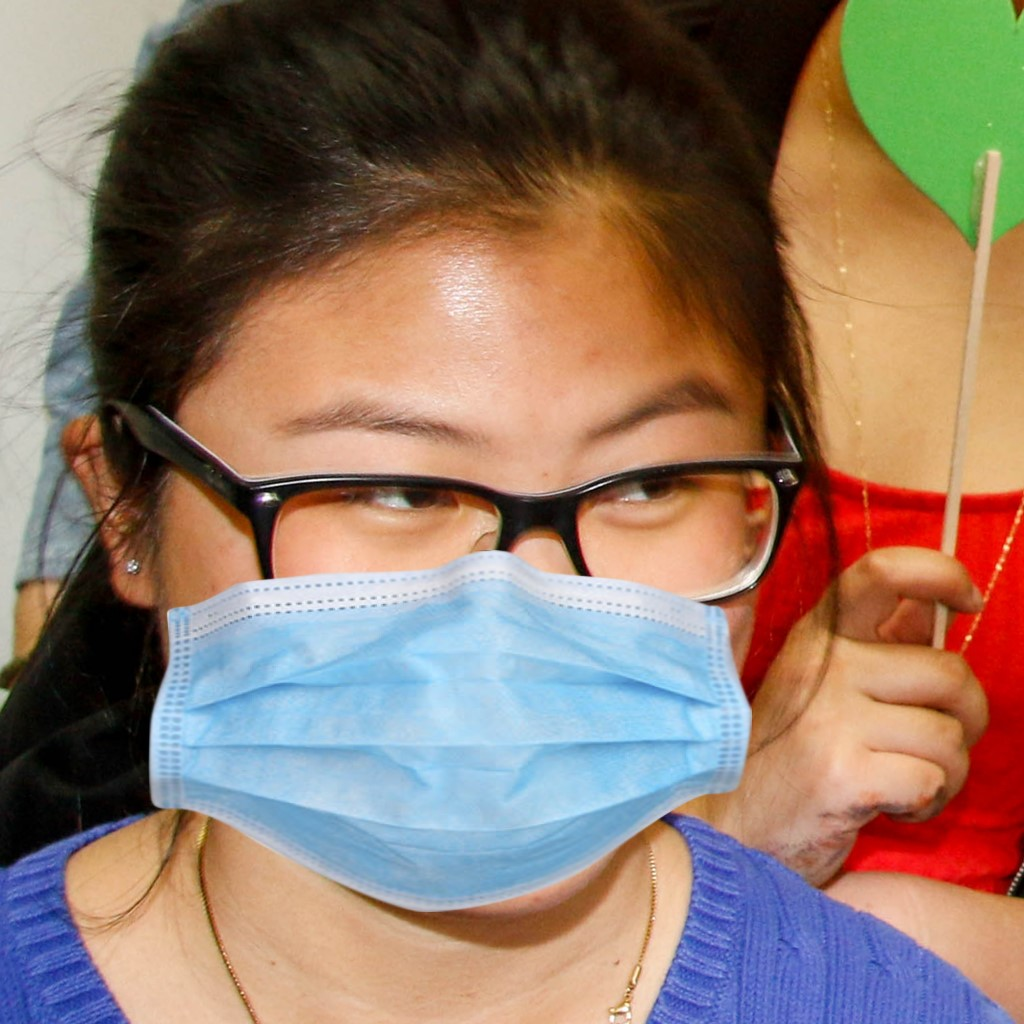con_mascara: (176, 172, 781, 909)
